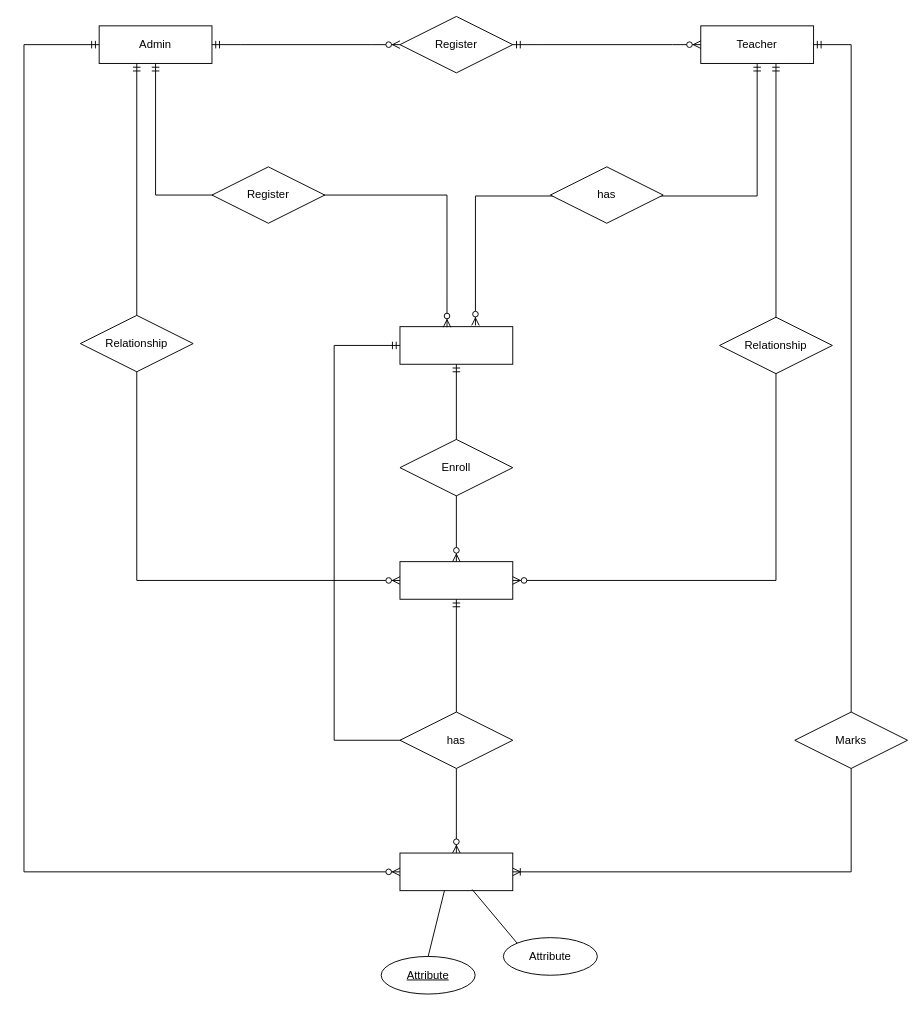
The diagram is 924 pixels wide and 1011 high, and some of its shapes have lost their labels. Here are the shapes that lost their labels. From the top down, the centre of each, then its label:
At (456,345): "Student".
At (456,580): "Subject".
At (456,871): "Attendence".
